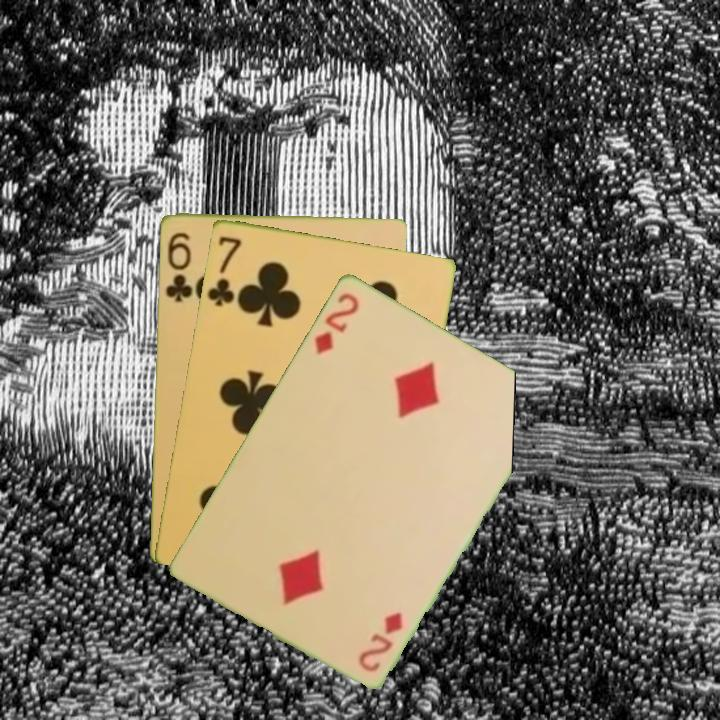2d: (310, 288, 362, 357), (354, 607, 406, 675)
6c: (162, 228, 195, 304)
7c: (203, 232, 244, 309)
